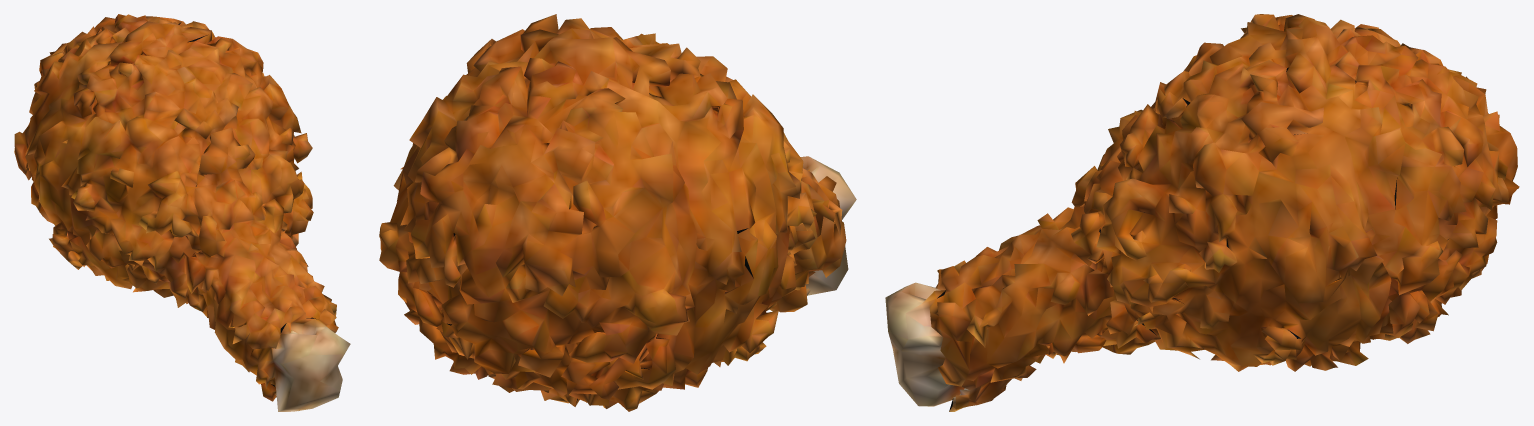
The model's file is food-chicken-phone.glb.
3 renders of one model, left to right at view 1: azimuth 30°, elevation 25°; view 2: azimuth 150°, elevation 25°; view 3: azimuth 270°, elevation 25°, orthographic. The views are drawn at different scales.
Parts seen in each view (by area): view 1: Model; view 2: Model; view 3: Model.
Boxes of the visible parts, x1,y1,x2,y2 form: Model: [14, 14, 350, 411]; Model: [379, 14, 856, 411]; Model: [885, 14, 1519, 411].
Bounding box in the file's own units: 1.1 × 1.26 × 1.9.
Materials: 1 (1 with a texture image).
